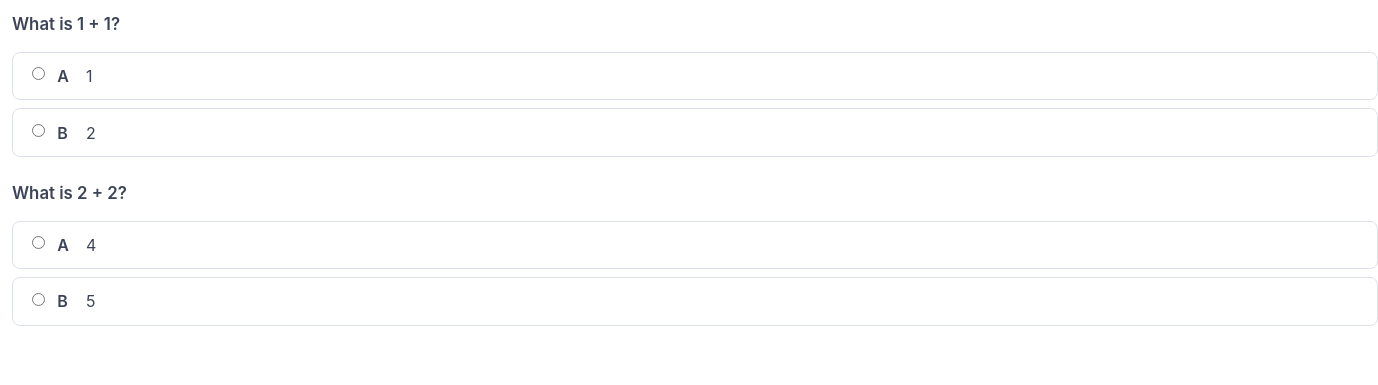
PracticeQuiz › choosing the wrong option reveals it as incorrect and shows which was right
The width and height of the screenshot is (1378, 385).
Click the text "1".
click(89, 76)  # box [86, 64, 92, 88]
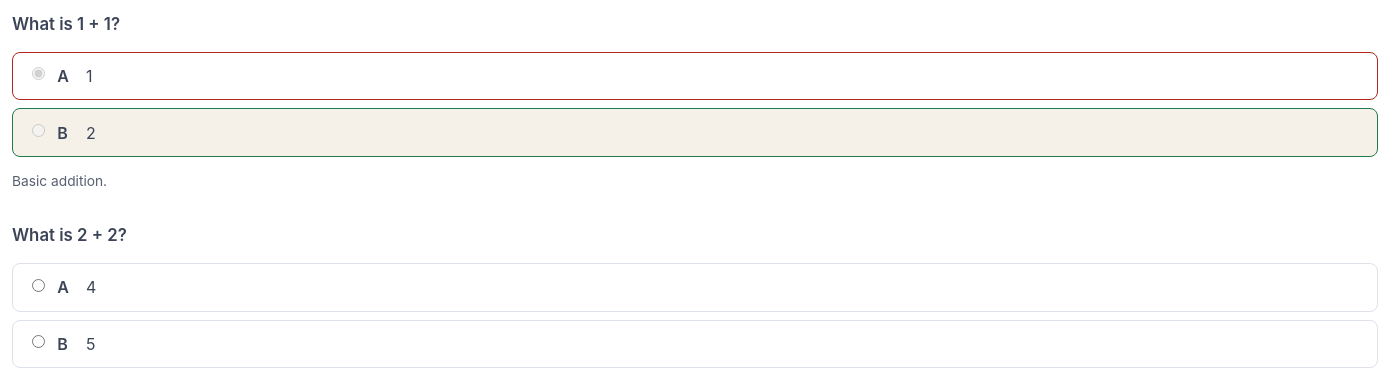
Now the text "1" has class "incorrect", box [12, 52, 1377, 100]
Now the text "2" has class "correct", box [12, 108, 1377, 157]
